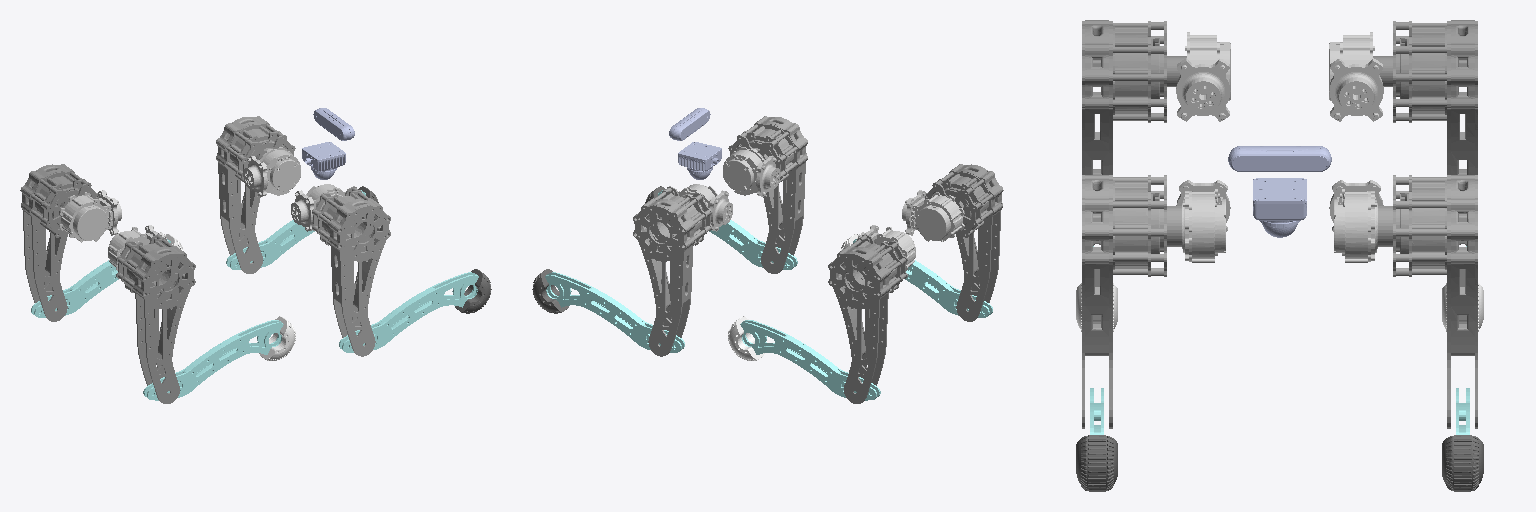
URDF robot description (EVA02_description):
<?xml version='1.0' encoding='UTF-8'?>
<robot name="EVA02_description">

  <!-- body========================================= -->
  <link name="base">
    <inertial>
      <origin xyz="0.011858 0.000475 0.060237" rpy="0 0 0" />
      <mass value="2.03" />
      <inertia ixx="0.013522598" ixy="-0.000075348" ixz="-0.001446647" iyy="0.031044571"
        iyz="-0.000032615" izz="0.035960924" />
    </inertial>
    <visual>
      <origin xyz="0 0 0" rpy="0 0 0" />
      <geometry>
        <mesh filename="package://EVA02_description/meshes/body.STL" />
      </geometry>
      <material name="">
        <color rgba="0.698039215686274 0.698039215686274 0.698039215686274 1" />
      </material>
    </visual>
    <collision>
      <origin xyz="0 0 0.07" rpy="0 0 0" />
      <geometry>
        <box size="0.50 0.22 0.14" />
      </geometry>
    </collision>
    <collision>
      <origin xyz="0.22 0 0.15" rpy="0 0 0" />
      <geometry>
        <box size="0.13 0.09 0.025" />
      </geometry>
    </collision>
  </link>

  <!-- camera======================================== -->
  <link name="camera">
    <inertial>
      <origin xyz="0.013017 0 0" rpy="0 0 0" />
      <mass value="0.10" />
      <inertia ixx="1.19066e-4" ixy="3.2e-8" ixz="-1.18e-7" iyy="2.8028e-5" iyz="5.6e-8"
        izz="1.35348e-4" />
    </inertial>
    <visual>
      <origin xyz="0 0 0" rpy="0 0 0" />
      <geometry>
        <mesh filename="package://EVA02_description/meshes/camera.STL" />
      </geometry>
      <material name="">
        <color rgba="0.792156862745098 0.819607843137255 0.933333333333333 1" />
      </material>
    </visual>
    <collision>
      <origin xyz="0 0 0" rpy="0 0 0" />
      <geometry>
        <box size="0.03 0.12 0.03" />
      </geometry>
    </collision>
  </link>

  <joint name="camera_joint" type="fixed">
    <origin xyz="0.28698 0.0 0.1895" rpy="0 0 0" />
    <parent link="base" />
    <child link="camera" />
    <axis xyz="0 0 0" />
  </joint>

  <!-- lidar========================================= -->
  <link name="lidar">
    <inertial>
      <origin xyz="-0.000200 0.000006 0.017467" rpy="0 0 0" />
      <mass value="0.265" />
      <inertia ixx="0.000123746" ixy="0.000000011" ixz="0.000000020" iyy="0.000133349"
        iyz="0.000000035" izz="0.000132274" />
    </inertial>
    <visual>
      <origin xyz="0 0 0" rpy="0 0 0" />
      <geometry>
        <mesh filename="package://EVA02_description/meshes/lidar.STL" />
      </geometry>
      <material name="">
        <color rgba="0.792156862745098 0.819607843137255 0.929411764705882 1" />
      </material>
    </visual>
    <collision>
      <origin xyz="0 0 0.02" rpy="0 0 0" />
      <geometry>
        <box size="0.065 0.065 0.035" />
      </geometry>
    </collision>
    <collision>
      <origin xyz="0 0 0.00" rpy="0 0 0" />
      <geometry>
        <sphere radius="0.0225" />
      </geometry>
    </collision>
  </link>

  <joint name="lidar_joint" type="fixed">
    <origin xyz="0.264 0.0 0.0985" rpy="0 0 0" />
    <parent link="base" />
    <child link="lidar" />
    <axis xyz="0 0 0" />
  </joint>

  <!-- front left leg========================================= -->
  <link name="FL_hip">
    <inertial>
      <origin xyz="-0.013264 -0.000827 0.000642" rpy="0 0 0" />
      <mass value="0.606" />
      <inertia ixx="0.000428373" ixy="0.000001930" ixz="-0.000005377" iyy="0.000778855"
        iyz="0.000000361" izz="0.000676550" />
    </inertial>
    <visual>
      <origin xyz="0 0 0" rpy="0 0 0" />
      <geometry>
        <mesh filename="package://EVA02_description/meshes/FL_hip.STL" />
      </geometry>
      <material name="">
        <color rgba="0.850980392156863 0.850980392156863 0.850980392156863 1" />
      </material>
    </visual>
    <collision>
      <origin xyz="0 0.09 0" rpy="1.57079632679 0 0" />
      <geometry>
        <cylinder radius="0.060" length="0.11" />
      </geometry>
    </collision>
  </link>

  <joint name="FL_hip_joint" type="revolute">
    <origin xyz="0.2181 0.09179 0.06815" rpy="0 0 0" />
    <parent link="base" />
    <child link="FL_hip" />
    <axis xyz="1 0 0" />
    <limit lower="-1.0472" upper="1.0472" effort="17.0" velocity="35.0" />
  </joint>

  <link name="FL_thigh">
    <inertial>
      <origin xyz="-0.001468 -0.034831 -0.021338" rpy="0 0 0" />
      <mass value="1.542" />
      <inertia ixx="0.007323179" ixy="0.000090584" ixz="-0.000250133" iyy="0.006895677"
        iyz="0.001140375" izz="0.002574539" />
    </inertial>
    <visual>
      <origin xyz="0 0 0" rpy="0 0 0" />
      <geometry>
        <mesh filename="package://EVA02_description/meshes/FL_thigh.STL" />
      </geometry>
      <material name="">
        <color rgba="0.698039215686274 0.698039215686274 0.698039215686274 1" />
      </material>
    </visual>
    <collision>
      <origin xyz="0 0 -0.120" rpy="0 0 0" />
      <geometry>
        <box size="0.050 0.044 0.250" />
      </geometry>
    </collision>
  </link>

  <joint name="FL_thigh_joint" type="revolute">
    <origin xyz="0 0.1271 0" rpy="0 0 0" />
    <parent link="FL_hip" />
    <child link="FL_thigh" />
    <axis xyz="0 1 0" />
    <limit lower="-1.5708" upper="3.4907" effort="17.0" velocity="35.0" />
  </joint>

  <link name="FL_calf">
    <inertial>
      <origin xyz="0.005417 -0.000207 -0.130693" rpy="0 0 0" />
      <mass value="0.227" />
      <inertia ixx="0.001988633" ixy="0.000000287" ixz="0.000050642" iyy="0.002045846"
        iyz="-0.000002846" izz="0.000076486" />
    </inertial>
    <visual>
      <origin xyz="0 0 0" rpy="0 0 0" />
      <geometry>
        <mesh filename="package://EVA02_description/meshes/FL_calf.STL" />
      </geometry>
      <material name="">
        <color rgba="0.752941176470588 1 1 1" />
      </material>
    </visual>
    <collision name="FL_calf_knee">
      <origin xyz="-0.0048 0 -0.02" rpy="0 0.131 0" />
      <geometry>
        <box size="0.048 0.019 0.05" />
      </geometry>
    </collision>
    <collision name="FL_calf_main">
      <origin xyz="0.006 0 -0.1" rpy="0 -0.185 0" />
      <geometry>
        <box size="0.047 0.019 0.13" />
      </geometry>
    </collision>
    <collision name="FL_calf_ankle">
      <origin xyz="0.015 0 -0.185" rpy="0 0.08 0" />
      <geometry>
        <box size="0.05 0.019 0.065" />
      </geometry>
    </collision>
  </link>

  <joint name="FL_calf_joint" type="revolute">
    <origin xyz="0 0 -0.240" rpy="0 0 0" />
    <parent link="FL_thigh" />
    <child link="FL_calf" />
    <axis xyz="0 1 0" />
    <limit lower="-2.7227" upper="-0.83776" effort="60.0" velocity="17.0" />
  </joint>

  <link name="FL_foot">
    <inertial>
      <origin xyz="-0.0141710 0.000000008 -0.014459" rpy="0 0 0" />
      <mass value="0.080" />
      <inertia ixx="0.000042354" ixy="0.000000000" ixz="0.000016450" iyy="0.000053066"
        iyz="0.000000000" izz="0.000043020" />
    </inertial>
    <visual>
      <origin xyz="0 0 0" rpy="0 0 0" />
      <geometry>
        <mesh filename="package://EVA02_description/meshes/FL_foot.STL" />
      </geometry>
      <material name="">
        <color rgba="0.501960784313725 0.501960784313725 0.501960784313725 1" />
      </material>
    </visual>
    <collision name="FL_calf_tip">
      <origin xyz="0.00 0 0.0" rpy="1.57079632679 0 0" />
      <geometry>
        <cylinder radius="0.045" length="0.0375" />
      </geometry>
    </collision>
  </link>

  <joint name="FL_foot_joint" type="fixed" dont_collapse="true">
    <origin xyz="0 0 -0.250" rpy="0 0 0" />
    <parent link="FL_calf" />
    <child link="FL_foot" />
    <axis xyz="0 0 0" />
  </joint>

  <!-- front right leg========================================= -->
  <link name="FR_hip">
    <inertial>
      <origin xyz="-0.013264 0.000827 0.000642" rpy="0 0 0" />
      <mass value="0.606" />
      <inertia ixx="0.000428373" ixy="-0.000001930" ixz="-0.000005377" iyy="0.000778855"
        iyz="-0.000000361" izz="0.000676550" />
    </inertial>
    <visual>
      <origin xyz="0 0 0" rpy="0 0 0" />
      <geometry>
        <mesh filename="package://EVA02_description/meshes/FL_hip.STL" scale="1 -1 1" />
      </geometry>
      <material name="">
        <color rgba="0.850980392156863 0.850980392156863 0.850980392156863 1" />
      </material>
    </visual>
    <collision>
      <origin xyz="0 -0.09 0" rpy="1.57079632679 0 0" />
      <geometry>
        <cylinder radius="0.060" length="0.11" />
      </geometry>
    </collision>
  </link>

  <joint name="FR_hip_joint" type="revolute">
    <origin xyz="0.2181 -0.09179 0.06815" rpy="0 0 0" />
    <parent link="base" />
    <child link="FR_hip" />
    <axis xyz="1 0 0" />
    <limit lower="-1.0472" upper="1.0472" effort="17.0" velocity="35.0" />
  </joint>

  <link name="FR_thigh">
    <inertial>
      <origin xyz="-0.001468 0.034831 -0.021338" rpy="0 0 0" />
      <mass value="1.542" />
      <inertia ixx="0.007323179" ixy="-0.000090584" ixz="-0.000250133" iyy="0.006895677"
        iyz="-0.001140375" izz="0.002574539" />
    </inertial>
    <visual>
      <origin xyz="0 0 0" rpy="0 0 0" />
      <geometry>
        <mesh filename="package://EVA02_description/meshes/FL_thigh.STL" scale="1 -1 1" />
      </geometry>
      <material name="">
        <color rgba="0.698039215686274 0.698039215686274 0.698039215686274 1" />
      </material>
    </visual>
    <collision>
      <origin xyz="0 0 -0.120" rpy="0 0 0" />
      <geometry>
        <box size="0.050 0.044 0.250" />
      </geometry>
    </collision>
  </link>

  <joint name="FR_thigh_joint" type="revolute">
    <origin xyz="0 -0.1271 0" rpy="0 0 0" />
    <parent link="FR_hip" />
    <child link="FR_thigh" />
    <axis xyz="0 1 0" />
    <limit lower="-1.5708" upper="3.4907" effort="17.0" velocity="35.0" />
  </joint>

  <link name="FR_calf">
    <inertial>
      <origin xyz="0.005417 0.000207 -0.130693" rpy="0 0 0" />
      <mass value="0.227" />
      <inertia ixx="0.001988633" ixy="-0.000000287" ixz="0.000050642" iyy="0.002045846"
        iyz="0.000002846" izz="0.000076486" />
    </inertial>
    <visual>
      <origin xyz="0 0 0" rpy="0 0 0" />
      <geometry>
        <mesh filename="package://EVA02_description/meshes/FL_calf.STL" scale="1 -1 1" />
      </geometry>
      <material name="">
        <color rgba="0.752941176470588 1 1 1" />
      </material>
    </visual>
    <collision name="FR_calf_knee">
      <origin xyz="-0.0048 0 -0.02" rpy="0 0.131 0" />
      <geometry>
        <box size="0.048 0.019 0.05" />
      </geometry>
    </collision>
    <collision name="FR_calf_main">
      <origin xyz="0.006 0 -0.1" rpy="0 -0.185 0" />
      <geometry>
        <box size="0.047 0.019 0.13" />
      </geometry>
    </collision>
    <collision name="FR_calf_ankle">
      <origin xyz="0.015 0 -0.185" rpy="0 0.08 0" />
      <geometry>
        <box size="0.05 0.019 0.065" />
      </geometry>
    </collision>
  </link>

  <joint name="FR_calf_joint" type="revolute">
    <origin xyz="0 0 -0.240" rpy="0 0 0" />
    <parent link="FR_thigh" />
    <child link="FR_calf" />
    <axis xyz="0 1 0" />
    <limit lower="-2.7227" upper="-0.83776" effort="60.0" velocity="17.0" />
  </joint>

  <link name="FR_foot">
    <inertial>
      <origin xyz="-0.014171 -0.000000008 -0.014459" rpy="0 0 0" />
      <mass value="0.080" />
      <inertia ixx="0.000042354" ixy="0.0" ixz="0.000016450" iyy="0.000053066" iyz="0.0"
        izz="0.000043020" />
    </inertial>
    <visual>
      <origin xyz="0 0 0" rpy="0 0 0" />
      <geometry>
        <mesh filename="package://EVA02_description/meshes/FL_foot.STL" scale="1 -1 1" />
      </geometry>
      <material name="">
        <color rgba="0.501960784313725 0.501960784313725 0.501960784313725 1" />
      </material>
    </visual>
    <collision name="FR_calf_tip">
      <origin xyz="0.0 0.0 0.0" rpy="1.57079632679 0 0" />
      <geometry>
        <cylinder radius="0.045" length="0.0375" />
      </geometry>
    </collision>
  </link>

  <joint name="FR_foot_joint" type="fixed" dont_collapse="true">
    <origin xyz="0 0 -0.250" rpy="0 0 0" />
    <parent link="FR_calf" />
    <child link="FR_foot" />
    <axis xyz="0 0 0" />
  </joint>

  <!-- rear left leg========================================= -->
  <link name="RL_hip">
    <inertial>
      <origin xyz="0.011265 -0.004382 -0.000042" rpy="0 0 0" />
      <mass value="0.815" />
      <inertia ixx="0.000503754" ixy="-0.000037811" ixz="0.000001175" iyy="0.001002948"
        iyz="0.000000150" izz="0.000864619" />
    </inertial>
    <visual>
      <origin xyz="0 0 0" rpy="0 0 0" />
      <geometry>
        <mesh filename="package://EVA02_description/meshes/RL_hip.STL" />
      </geometry>
      <material name="">
        <color rgba="0.850980392156863 0.850980392156863 0.850980392156863 1" />
      </material>
    </visual>
    <collision>
      <origin xyz="0 0.09 0" rpy="1.57079632679 0 0" />
      <geometry>
        <cylinder radius="0.060" length="0.11" />
      </geometry>
    </collision>
  </link>

  <joint name="RL_hip_joint" type="revolute">
    <origin xyz="-0.2206 0.09179 0.06815" rpy="0 0 0" />
    <parent link="base" />
    <child link="RL_hip" />
    <axis xyz="1 0 0" />
    <limit lower="-1.0472" upper="1.0472" effort="17.0" velocity="35.0" />
  </joint>

  <link name="RL_thigh">
    <inertial>
      <origin xyz="-0.001573 -0.032493 -0.021284" rpy="0 0 0" />
      <mass value="1.536" />
      <inertia ixx="0.007179038" ixy="0.000080461" ixz="-0.000245207" iyy="0.006896888"
        iyz="0.001057598" izz="0.002416899" />
    </inertial>
    <visual>
      <origin xyz="0 0 0" rpy="0 0 0" />
      <geometry>
        <mesh filename="package://EVA02_description/meshes/RL_thigh.STL" />
      </geometry>
      <material name="">
        <color rgba="0.647058823529412 0.647058823529412 0.647058823529412 1" />
      </material>
    </visual>
    <collision>
      <origin xyz="0 0 -0.120" rpy="0 0 0" />
      <geometry>
        <box size="0.050 0.044 0.250" />
      </geometry>
    </collision>
  </link>

  <joint name="RL_thigh_joint" type="revolute">
    <origin xyz="0 0.1271 0" rpy="0 0 0" />
    <parent link="RL_hip" />
    <child link="RL_thigh" />
    <axis xyz="0 1 0" />
    <limit lower="-1.5708" upper="3.4907" effort="17.0" velocity="35.0" />
  </joint>

  <link name="RL_calf">
    <inertial>
      <origin xyz="0.005417 -0.000207 -0.130693" rpy="0 0 0" />
      <mass value="0.227" />
      <inertia ixx="0.001988633" ixy="-0.000000287" ixz="-0.000050642" iyy="0.002045846"
        iyz="-0.000002846" izz="0.000076486" />
    </inertial>
    <visual>
      <origin xyz="0 0 0" rpy="0 0 0" />
      <geometry>
        <mesh filename="package://EVA02_description/meshes/RL_calf.STL" />
      </geometry>
      <material name="">
        <color rgba="0.752941176470588 1 1 1" />
      </material>
    </visual>
    <collision name="RL_calf_knee">
      <origin xyz="-0.0048 0 -0.02" rpy="0 0.131 0" />
      <geometry>
        <box size="0.048 0.019 0.05" />
      </geometry>
    </collision>
    <collision name="RL_calf_main">
      <origin xyz="0.006 0 -0.1" rpy="0 -0.185 0" />
      <geometry>
        <box size="0.047 0.019 0.13" />
      </geometry>
    </collision>
    <collision name="RL_calf_ankle">
      <origin xyz="0.015 0 -0.185" rpy="0 0.08 0" />
      <geometry>
        <box size="0.05 0.019 0.065" />
      </geometry>
    </collision>
  </link>

  <joint name="RL_calf_joint" type="revolute">
    <origin xyz="0 0 -0.240" rpy="0 0 0" />
    <parent link="RL_thigh" />
    <child link="RL_calf" />
    <axis xyz="0 1 0" />
    <limit lower="-2.7227" upper="-0.83776" effort="60.0" velocity="17.0" />
  </joint>

  <link name="RL_foot">
    <inertial>
      <origin xyz="-0.014171 0.0000000 -0.014459" rpy="0 0 0" />
      <mass value="0.080" />
      <inertia ixx="0.000042354" ixy="0.000000000" ixz="0.000016450" iyy="0.000053066"
        iyz="0.000000000" izz="0.000043020" />
    </inertial>
    <visual>
      <origin xyz="0 0 0" rpy="0 0 0" />
      <geometry>
        <mesh filename="package://EVA02_description/meshes/RL_foot.STL" />
      </geometry>
      <material name="">
        <color rgba="1 1 1 1" />
      </material>
    </visual>
    <collision name="RL_calf_tip">
      <origin xyz="0.0 0.0 0.0" rpy="1.57079632679 0 0" />
      <geometry>
        <cylinder radius="0.045" length="0.0375" />
      </geometry>
    </collision>
  </link>

  <joint name="RL_foot_joint" type="fixed" dont_collapse="true">
    <origin xyz="0 0 -0.250" rpy="0 0 0" />
    <parent link="RL_calf" />
    <child link="RL_foot" />
    <axis xyz="0 0 0" />
  </joint>

  <!-- rear right leg========================================= -->
  <link name="RR_hip">
    <inertial>
      <origin xyz="0.011265 0.004382 -0.000042" rpy="0 0 0" />
      <mass value="0.815" />
      <inertia ixx="0.000503754" ixy="0.000037811" ixz="0.000001175" iyy="0.001002948"
        iyz="-0.000000150" izz="0.000864619" />
    </inertial>
    <visual>
      <origin xyz="0 0 0" rpy="0 0 0" />
      <geometry>
        <mesh filename="package://EVA02_description/meshes/RL_hip.STL" scale="1 -1 1" />
      </geometry>
      <material name="">
        <color rgba="0.850980392156863 0.850980392156863 0.850980392156863 1" />
      </material>
    </visual>
    <collision>
      <origin xyz="0 -0.09 0" rpy="1.57079632679 0 0" />
      <geometry>
        <cylinder radius="0.060" length="0.11" />
      </geometry>
    </collision>
  </link>

  <joint name="RR_hip_joint" type="revolute">
    <origin xyz="-0.2206 -0.09179 0.06815" rpy="0 0 0" />
    <parent link="base" />
    <child link="RR_hip" />
    <axis xyz="1 0 0" />
    <limit lower="-1.0472" upper="1.0472" effort="17.0" velocity="35.0" />
  </joint>

  <link name="RR_thigh">
    <inertial>
      <origin xyz="-0.001573 0.032493 -0.021284" rpy="0 0 0" />
      <mass value="1.536" />
      <inertia ixx="0.007179038" ixy="-0.000080461" ixz="-0.000245207" iyy="0.006896888"
        iyz="-0.001057598" izz="0.002416899" />
    </inertial>
    <visual>
      <origin xyz="0 0 0" rpy="0 0 0" />
      <geometry>
        <mesh filename="package://EVA02_description/meshes/RL_thigh.STL" scale="1 -1 1" />
      </geometry>
      <material name="">
        <color rgba="0.647058823529412 0.647058823529412 0.647058823529412 1" />
      </material>
    </visual>
    <collision>
      <origin xyz="0 0 -0.120" rpy="0 0 0" />
      <geometry>
        <box size="0.050 0.044 0.250" />
      </geometry>
    </collision>
  </link>

  <joint name="RR_thigh_joint" type="revolute">
    <origin xyz="0 -0.1271 0" rpy="0 0 0" />
    <parent link="RR_hip" />
    <child link="RR_thigh" />
    <axis xyz="0 1 0" />
    <limit lower="-1.5708" upper="3.4907" effort="17.0" velocity="35.0" />
  </joint>

  <link name="RR_calf">
    <inertial>
      <origin xyz="0.005417 0.000207 -0.130693" rpy="0 0 0" />
      <mass value="0.227" />
      <inertia ixx="0.001988633" ixy="0.000000287" ixz="-0.000050642" iyy="0.002045846"
        iyz="0.000002846" izz="0.000076486" />
    </inertial>
    <visual>
      <origin xyz="0 0 0" rpy="0 0 0" />
      <geometry>
        <mesh filename="package://EVA02_description/meshes/RL_calf.STL" scale="1 -1 1" />
      </geometry>
      <material name="">
        <color rgba="0.752941176470588 1 1 1" />
      </material>
    </visual>
    <collision name="RR_calf_knee">
      <origin xyz="-0.0048 0 -0.02" rpy="0 0.131 0" />
      <geometry>
        <box size="0.048 0.019 0.05" />
      </geometry>
    </collision>
    <collision name="RR_calf_main">
      <origin xyz="0.006 0 -0.1" rpy="0 -0.185 0" />
      <geometry>
        <box size="0.047 0.019 0.13" />
      </geometry>
    </collision>
    <collision name="RR_calf_ankle">
      <origin xyz="0.015 0 -0.185" rpy="0 0.08 0" />
      <geometry>
        <box size="0.05 0.019 0.065" />
      </geometry>
    </collision>
  </link>

  <joint name="RR_calf_joint" type="revolute">
    <origin xyz="0 0 -0.240" rpy="0 0 0" />
    <parent link="RR_thigh" />
    <child link="RR_calf" />
    <axis xyz="0 1 0" />
    <limit lower="-2.7227" upper="-0.83776" effort="60.0" velocity="17.0" />
  </joint>

  <link name="RR_foot">
    <inertial>
      <origin xyz="-0.014171 -0.0000000 -0.014459" rpy="0 0 0" />
      <mass value="0.080" />
      <inertia ixx="0.000042354" ixy="0.0" ixz="0.000016450" iyy="0.000053066" iyz="0.0"
        izz="0.000043020" />
    </inertial>
    <visual>
      <origin xyz="0 0 0" rpy="0 0 0" />
      <geometry>
        <mesh filename="package://EVA02_description/meshes/RL_foot.STL" scale="1 -1 1" />
      </geometry>
      <material name="">
        <color rgba="1 1 1 1" />
      </material>
    </visual>
    <collision name="RR_calf_tip">
      <origin xyz="0.0 0.0 0.0" rpy="1.57079632679 0 0" />
      <geometry>
        <cylinder radius="0.045" length="0.0375" />
      </geometry>
    </collision>
  </link>

  <joint name="RR_foot_joint" type="fixed" dont_collapse="true">
    <origin xyz="0 0 -0.250" rpy="0 0 0" />
    <parent link="RR_calf" />
    <child link="RR_foot" />
    <axis xyz="0 0 0" />
  </joint>

</robot>

--- What the picture shows (computed from the rendered views, not written in the file) ---
3 views of the same robot in one strip: view 1: azimuth 30°, elevation 25°; view 2: azimuth 150°, elevation 25°; view 3: azimuth 270°, elevation 25° (orthographic).
Robot: EVA02_description — 19 links, 18 joints (12 revolute, 6 fixed); root link base; default pose: joints at zero except 4 at the middle of their limits (FL_calf_joint = -1.78, FR_calf_joint = -1.78, RL_calf_joint = -1.78, RR_calf_joint = -1.78).
Visible links, largest first — view 1: RR_thigh, FR_thigh, RL_thigh, FL_thigh, FR_calf, RR_calf, RL_hip, FL_hip, RL_calf, FL_calf, lidar, FR_hip (+4 smaller); view 2: RL_thigh, FL_thigh, RR_thigh, FR_thigh, FL_calf, RL_calf, RR_hip, FR_hip, RR_calf, FR_calf, lidar, FL_hip (+4 smaller); view 3: FL_thigh, FR_thigh, RL_thigh, RR_thigh, RL_hip, RR_hip, FL_hip, FR_hip, lidar, camera, FL_foot, FR_foot (+2 smaller).
Link boxes in pixels (<box>): RR_thigh: <box>116,234,195,403</box>; FR_thigh: <box>312,186,390,356</box>; RL_thigh: <box>20,164,98,321</box>; FL_thigh: <box>216,116,295,273</box>; FR_calf: <box>339,272,478,352</box>; RR_calf: <box>143,320,283,400</box>; RL_hip: <box>59,190,121,242</box>; FL_hip: <box>243,147,300,196</box>; RL_calf: <box>31,239,170,317</box>; FL_calf: <box>226,190,365,269</box>; lidar: <box>302,142,345,179</box>; FR_hip: <box>291,184,345,231</box>; RL_thigh: <box>828,234,907,403</box>; FL_thigh: <box>633,186,711,356</box>; RR_thigh: <box>925,164,1003,321</box>; FR_thigh: <box>728,116,807,273</box>; FL_calf: <box>545,272,684,352</box>; RL_calf: <box>740,320,880,400</box>; RR_hip: <box>902,190,964,241</box>; FR_hip: <box>723,147,780,196</box>; RR_calf: <box>853,239,992,317</box>; FR_calf: <box>658,190,797,269</box>; lidar: <box>678,142,721,179</box>; FL_hip: <box>678,184,732,231</box>; FL_thigh: <box>1378,175,1477,428</box>; FR_thigh: <box>1082,175,1181,428</box>; RL_thigh: <box>1373,20,1477,174</box>; RR_thigh: <box>1082,20,1186,174</box>; RL_hip: <box>1329,32,1383,121</box>; RR_hip: <box>1176,32,1230,121</box>; FL_hip: <box>1329,180,1383,262</box>; FR_hip: <box>1176,180,1230,262</box>; lidar: <box>1253,178,1306,237</box>; camera: <box>1228,146,1331,171</box>; FL_foot: <box>1442,435,1483,491</box>; FR_foot: <box>1076,435,1117,491</box>.
Bounding box of the posed robot: 0.7871 × 0.4878 × 0.4005 m (x, y, z).
Meshes: 11 distinct files referenced, 18 mesh visuals loaded (10 binary STL); not drawn: 1 (reference not matched to a file when rendering).
